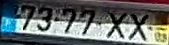3: (36, 5, 54, 32)
7: (78, 9, 97, 36), (20, 3, 36, 31), (61, 7, 77, 34)
X: (103, 10, 129, 40), (127, 12, 149, 41)
